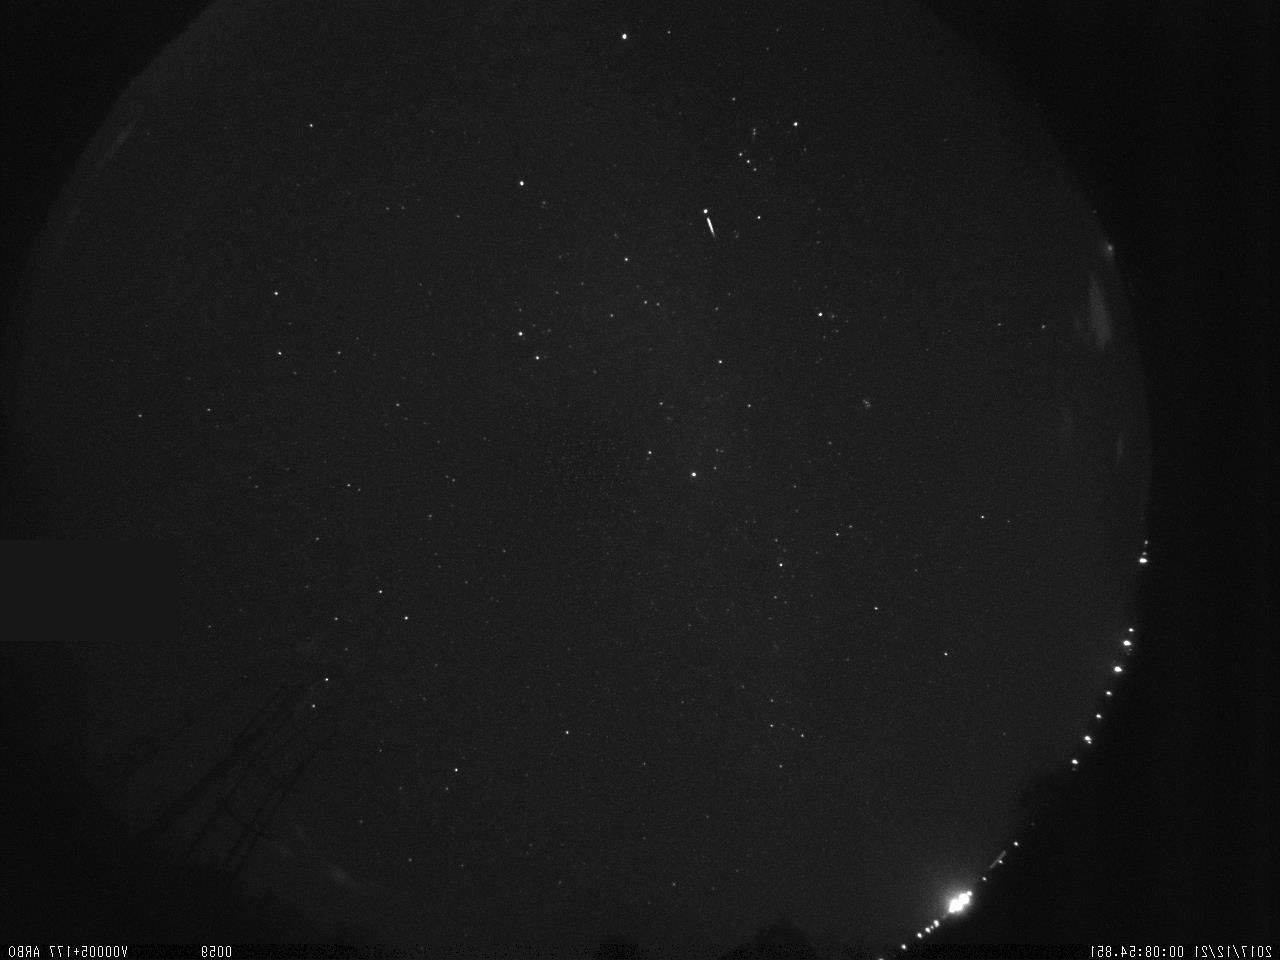meteor: (705, 216, 717, 241)
